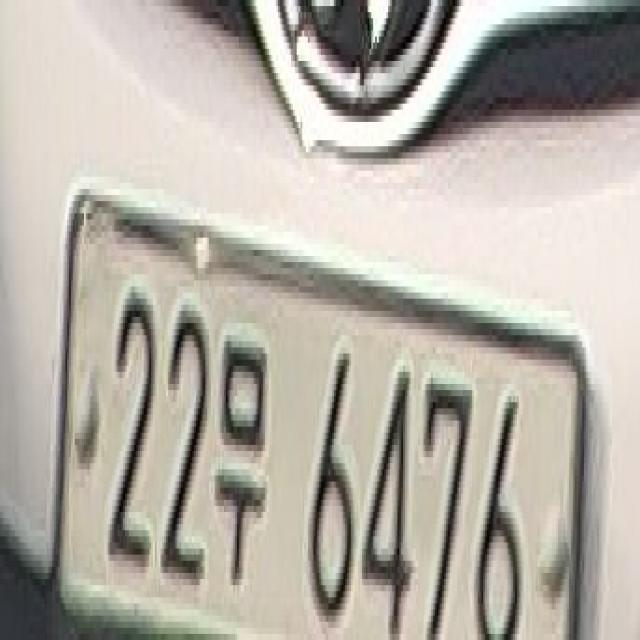2: (103, 275, 160, 590), (162, 275, 214, 600)
4: (360, 344, 419, 634)
6: (298, 331, 369, 627), (472, 368, 534, 631)
7: (418, 350, 476, 634)
license_plate: (48, 210, 582, 634)
mu: (213, 309, 279, 608)
